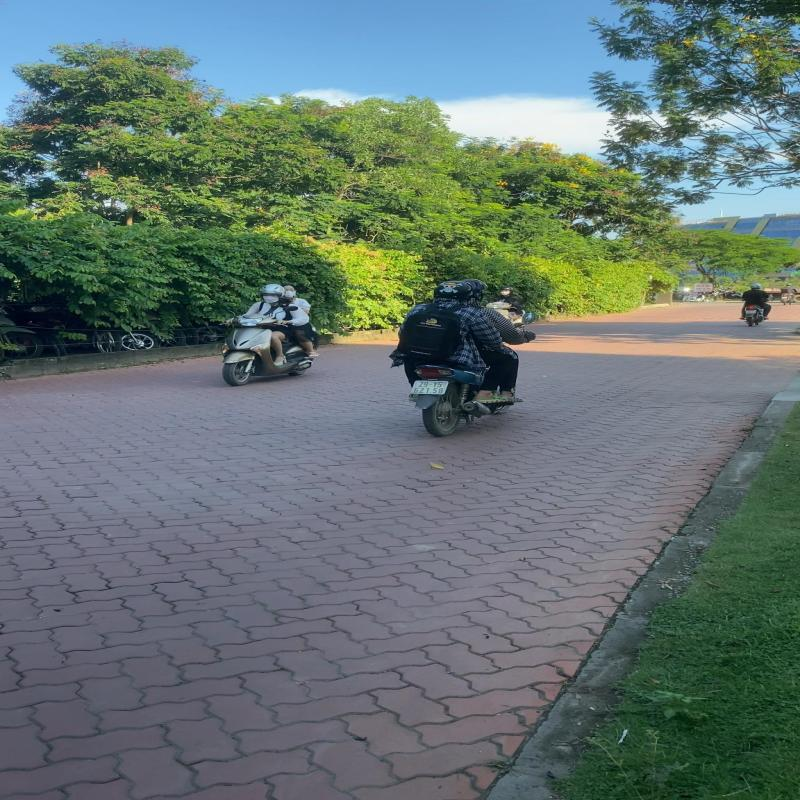helmet: (433, 280, 474, 300), (460, 278, 490, 300), (749, 284, 762, 289)
licenseplate: (411, 380, 449, 396), (745, 310, 756, 314)
motorcyclist: (386, 277, 543, 439), (738, 282, 773, 326)
